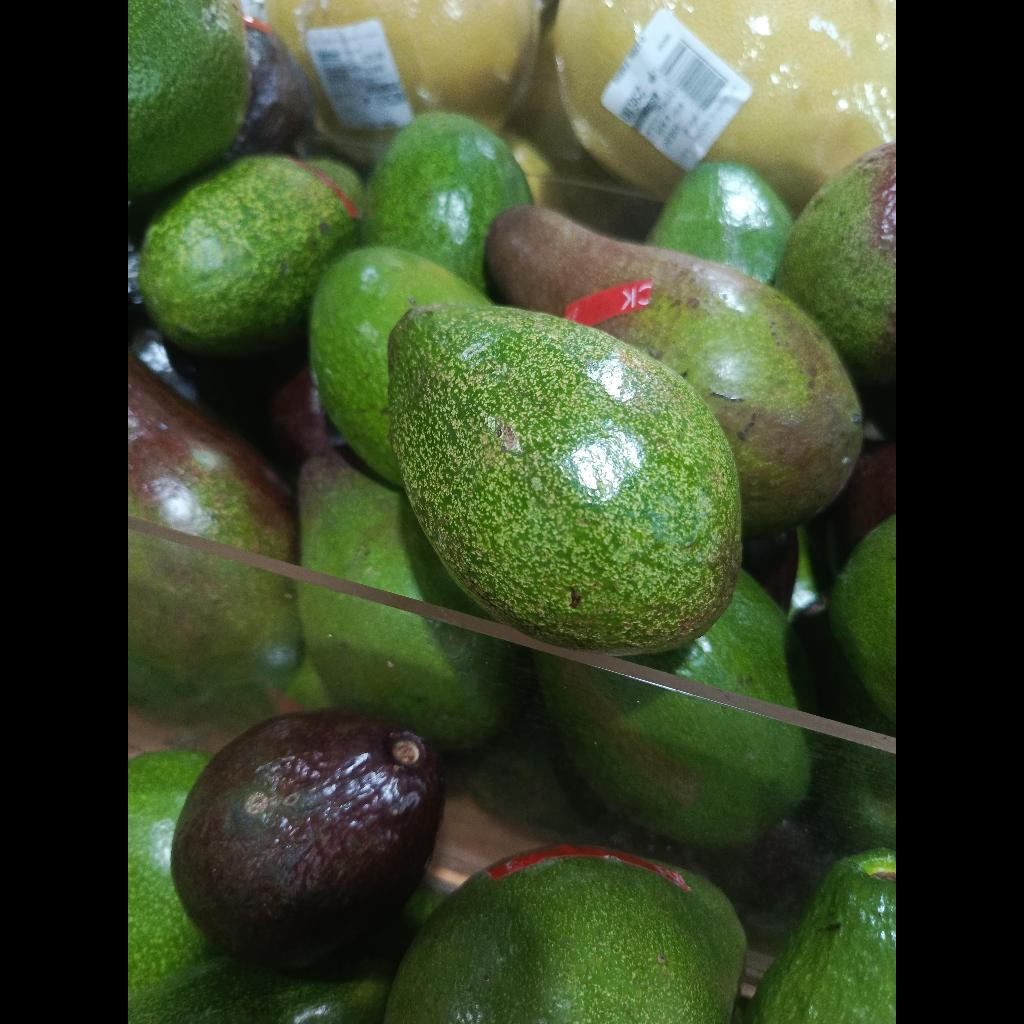antracnosis_fruto: (486, 207, 862, 537), (776, 142, 896, 384)
pudricion_peduncular: (776, 142, 896, 384)
